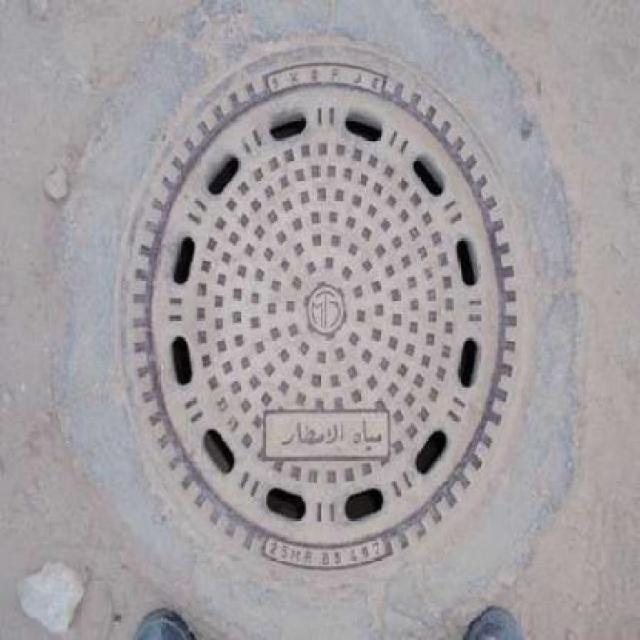Manhole: (100, 30, 545, 578)
